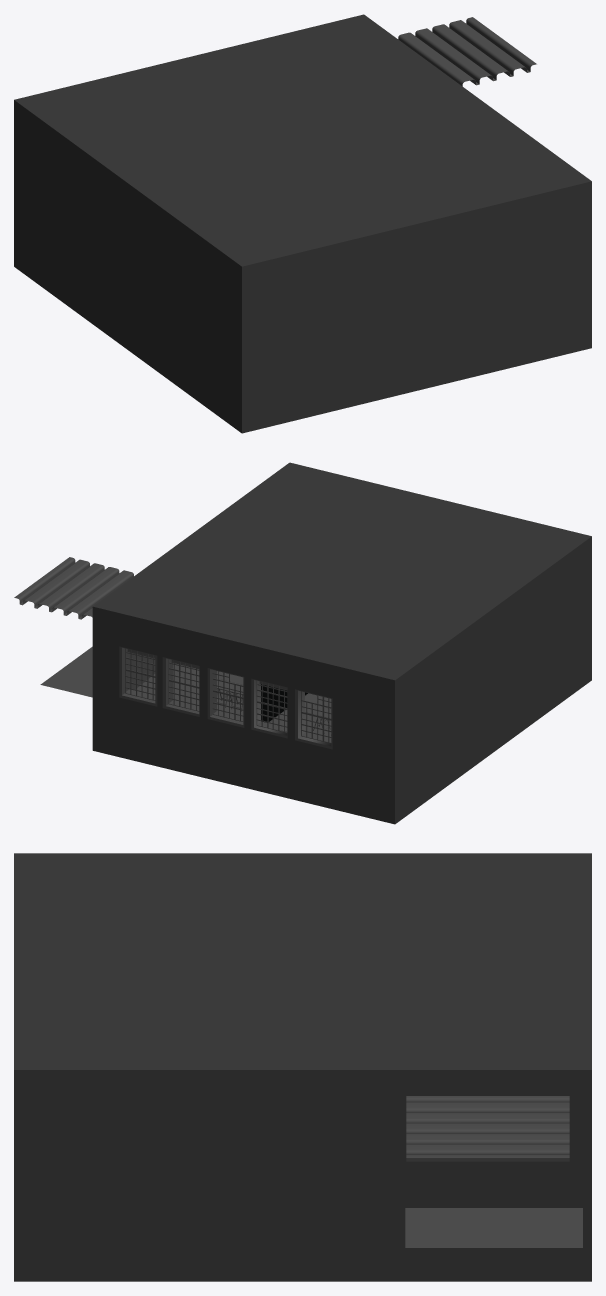
File: MAP_StartitGemoetry.fbx
3 renders of one model, top to bottom at view 1: azimuth 30°, elevation 25°; view 2: azimuth 150°, elevation 25°; view 3: azimuth 270°, elevation 25°, orthographic. The views are drawn at different scales.
Visible parts, largest first — view 1: SM_BackFace_10, SM_Celing3_59; view 2: SM_BackFace_10, SM_Celing3_59, SM_FrontWall_9, SM_RoomFloor3, SM_RoomFloor2, Sm_RightWindow3, Sm_RightWindow2, Sm_RightWindow_43, Sm_LeftWindow_40, SM_RoomFloor_13, Sm_LeftWindow2, SM_GlassDoor_47 (+1 smaller); view 3: SM_BackFace_10, SM_Celing3_59, SM_RoomFloor3.
Part boxes in pixels (x1,y1,x2,y2): SM_BackFace_10: [14, 14, 591, 433]; SM_Celing3_59: [398, 17, 536, 86]; SM_BackFace_10: [92, 462, 591, 824]; SM_Celing3_59: [14, 557, 133, 619]; SM_FrontWall_9: [119, 646, 332, 749]; SM_RoomFloor3: [40, 646, 198, 697]; SM_RoomFloor2: [173, 671, 243, 716]; Sm_RightWindow3: [125, 648, 155, 700]; Sm_RightWindow2: [168, 659, 199, 711]; Sm_RightWindow_43: [256, 681, 287, 732]; Sm_LeftWindow_40: [301, 691, 331, 743]; SM_RoomFloor_13: [270, 693, 331, 738]; Sm_LeftWindow2: [212, 670, 243, 721]; SM_GlassDoor_47: [261, 684, 308, 722]; SM_BackFace_10: [14, 853, 591, 1281]; SM_Celing3_59: [406, 1096, 569, 1161]; SM_RoomFloor3: [405, 1208, 582, 1247].
Size of the model in its own units: 1855 by 1627 by 657.
